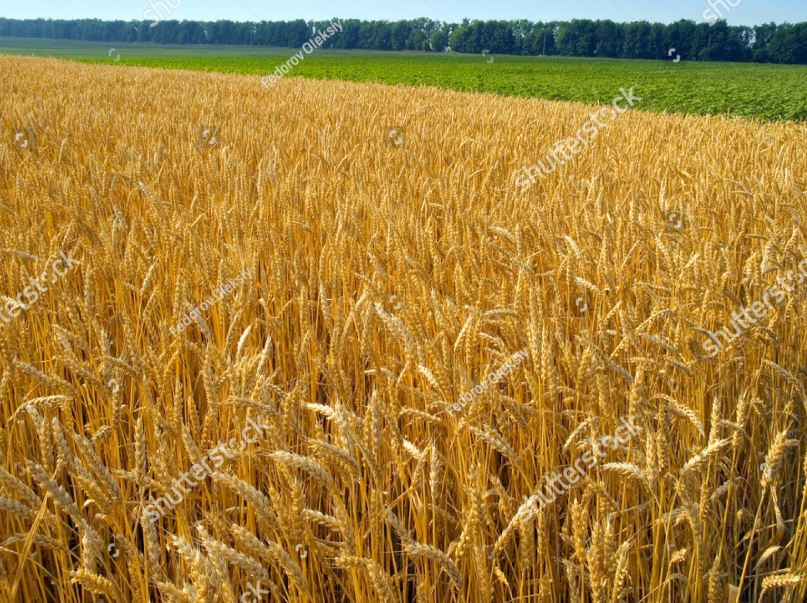Wheat: (32, 287, 788, 579)
